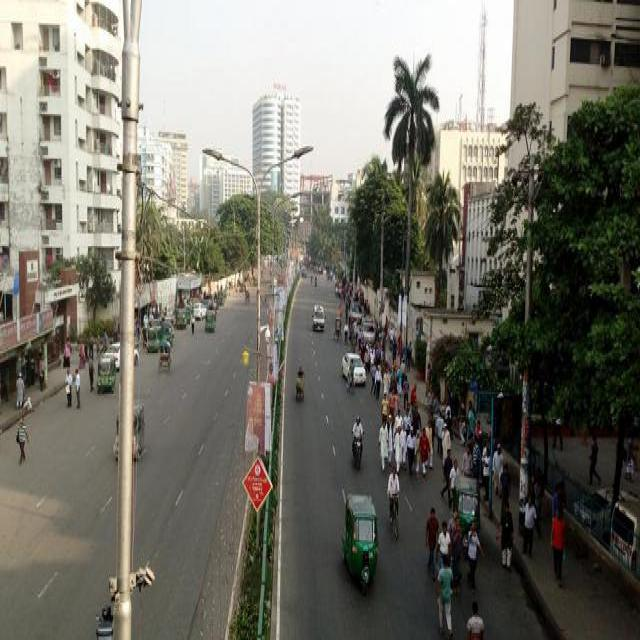10: (349, 427, 365, 470)
13: (158, 337, 172, 371), (331, 313, 341, 341), (241, 286, 251, 301)
17: (340, 490, 380, 590), (112, 398, 144, 462), (449, 472, 481, 533), (96, 353, 116, 394), (146, 324, 158, 352), (204, 306, 216, 330), (176, 305, 187, 328), (160, 318, 173, 336), (216, 290, 224, 304)
5: (338, 348, 364, 370), (192, 300, 204, 318)
Ambulance: (310, 302, 324, 331)
Motorcycle: (386, 486, 402, 537), (345, 370, 355, 391)
